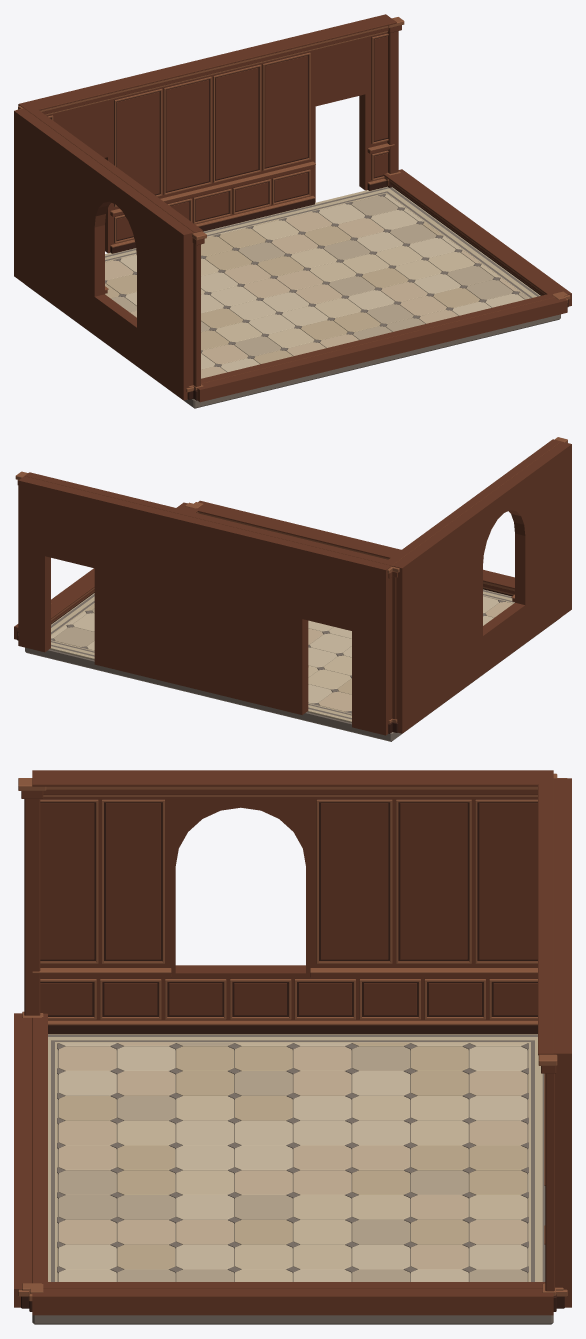
Rendered from living_hall_architecture.glb.
3 renders of one model, top to bottom at view 1: azimuth 30°, elevation 25°; view 2: azimuth 150°, elevation 25°; view 3: azimuth 270°, elevation 25°, orthographic. The views are drawn at different scales.
Parts seen in each view (by area): view 1: living_hall_Floor, living_hall_left_Wall_Solid_00, living_hall_rear_Wall_Solid_00, living_hall_front_Cutedge_Solid_00, living_hall_rear_Wall_UpperPanel_00_1_2_Field, living_hall_rear_Wall_UpperPanel_00_1_3_Field, living_hall_rear_Wall_UpperPanel_00_1_1_Field, living_hall_rear_Wall_UpperPanel_00_1_0_Field, living_hall_rear_Wall_Cornice_00_3_0, living_hall_Floor_Foundation, living_hall_front_Cutedge_Cornice_00_3_0, living_hall_right_Cutedge_Solid_00 (+18 smaller); view 2: living_hall_rear_Wall_Solid_00, living_hall_left_Wall_Solid_00, living_hall_Floor, living_hall_Floor_Foundation, living_hall_rear_Wall_Cornice_00_3_0, living_hall_left_Wall_Cornice_00_3_0, living_hall_front_Cutedge_Cornice_00_3_0, living_hall_front_Cutedge_Solid_00, Pilaster_Shaft, living_hall_right_Cutedge_Solid_00, Pilaster_Shaft_003, living_hall_right_Cutedge_Cornice_00_3_0 (+1 smaller); view 3: living_hall_Floor, living_hall_left_Wall_Solid_00, living_hall_right_Cutedge_Solid_00, living_hall_left_Wall_UpperPanel_00_1_0_Field, living_hall_left_Wall_UpperPanel_00_1_1_Field, living_hall_left_Wall_UpperPanel_00_1_2_Field, living_hall_rear_Wall_Solid_00, living_hall_left_Wall_UpperPanel_00_0_1_Field, living_hall_left_Wall_UpperPanel_00_0_0_Field, living_hall_Floor_Foundation, living_hall_front_Cutedge_Solid_00, living_hall_left_Wall_Skirting_00_0 (+27 smaller).
Part boxes in pixels (x1,y1,x2,y2): living_hall_Floor: [105, 186, 540, 378]; living_hall_left_Wall_Solid_00: [14, 108, 193, 400]; living_hall_rear_Wall_Solid_00: [18, 14, 391, 253]; living_hall_front_Cutedge_Solid_00: [197, 297, 567, 402]; living_hall_rear_Wall_UpperPanel_00_1_2_Field: [215, 68, 258, 179]; living_hall_rear_Wall_UpperPanel_00_1_3_Field: [265, 55, 307, 167]; living_hall_rear_Wall_UpperPanel_00_1_1_Field: [166, 79, 208, 191]; living_hall_rear_Wall_UpperPanel_00_1_0_Field: [117, 91, 159, 194]; living_hall_rear_Wall_Cornice_00_3_0: [27, 18, 396, 111]; living_hall_Floor_Foundation: [25, 284, 560, 408]; living_hall_front_Cutedge_Cornice_00_3_0: [201, 292, 556, 383]; living_hall_right_Cutedge_Solid_00: [396, 169, 571, 306]; living_hall_rear_Wall_Solid_00: [18, 476, 391, 735]; living_hall_left_Wall_Solid_00: [392, 441, 571, 733]; living_hall_Floor: [50, 589, 514, 722]; living_hall_Floor_Foundation: [25, 618, 559, 741]; living_hall_rear_Wall_Cornice_00_3_0: [24, 472, 394, 565]; living_hall_left_Wall_Cornice_00_3_0: [384, 439, 561, 565]; living_hall_front_Cutedge_Cornice_00_3_0: [195, 506, 514, 589]; living_hall_front_Cutedge_Solid_00: [198, 500, 514, 582]; Pilaster_Shaft: [392, 576, 396, 719]; living_hall_right_Cutedge_Solid_00: [14, 502, 189, 639]; Pilaster_Shaft_003: [389, 577, 392, 720]; living_hall_right_Cutedge_Cornice_00_3_0: [51, 506, 201, 618]; living_hall_Floor: [48, 1034, 545, 1281]; living_hall_left_Wall_Solid_00: [32, 770, 553, 1020]; living_hall_right_Cutedge_Solid_00: [32, 1289, 553, 1315]; living_hall_left_Wall_UpperPanel_00_1_0_Field: [321, 803, 388, 959]; living_hall_left_Wall_UpperPanel_00_1_1_Field: [400, 803, 467, 959]; living_hall_left_Wall_UpperPanel_00_1_2_Field: [479, 803, 537, 959]; living_hall_rear_Wall_Solid_00: [553, 778, 571, 1307]; living_hall_left_Wall_UpperPanel_00_0_1_Field: [106, 803, 160, 959]; living_hall_left_Wall_UpperPanel_00_0_0_Field: [40, 803, 94, 959]; living_hall_Floor_Foundation: [32, 1315, 553, 1324]; living_hall_front_Cutedge_Solid_00: [14, 1013, 31, 1307]; living_hall_left_Wall_Skirting_00_0: [48, 1025, 537, 1034].
Size of the model in its own units: 10.56 by 4.61 by 8.56.
